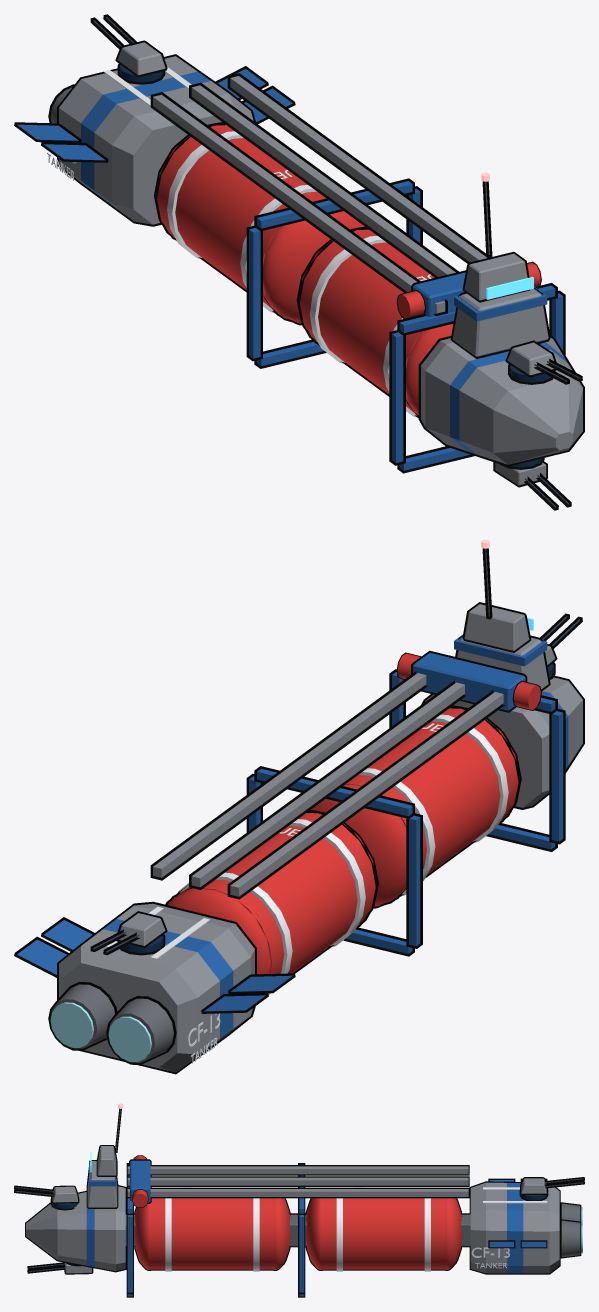
File: Cargo_Frigate_Tanker.fbx
3 views of the same model, one above another, from view 1: azimuth 30°, elevation 25°; view 2: azimuth 150°, elevation 25°; view 3: azimuth 270°, elevation 25° (orthographic). The views are drawn at different scales.
Parts seen in each view (by area): view 1: Bow.002, Engine.002, Tank10, Tank00, Pipe-2.95, Pipe0, Pipe2.95, TankFrame1, TankFrame0, Bridge_A.002, Tank10_Cap-1, Bridge_B.002 (+12 smaller); view 2: Engine.002, Tank10, Tank00, Pipe-2.95, Pipe2.95, Pipe0, Bow.002, TankFrame1, TankFrame0, Tank00_Cap1, Manifold, Tank10_Cap1 (+17 smaller); view 3: Tank00, Tank10, Engine.002, Bow.002, Pipe2.95, Pipe-2.95, Pipe0, Tank10_Cap1, Tank00_Cap1, Tank10_Cap-1, Bridge_A.002, Tank00_Cap-1 (+14 smaller).
Part boxes in pixels (box(x1,y1,x2,y2)): Bow.002: box(418, 334, 584, 466); Engine.002: box(57, 54, 255, 226); Tank10: box(155, 123, 326, 323); Tank00: box(298, 227, 434, 417); Pipe-2.95: box(150, 92, 447, 316); Pipe0: box(189, 82, 458, 277); Pipe2.95: box(227, 73, 488, 263); TankFrame1: box(246, 178, 422, 368); TankFrame0: box(389, 283, 565, 473); Bridge_A.002: box(450, 287, 550, 358); Tank10_Cap-1: box(263, 211, 364, 325); Bridge_B.002: box(462, 251, 529, 302); Engine.002: box(57, 901, 256, 1074); Tank10: box(165, 811, 377, 973); Tank00: box(345, 706, 520, 906); Pipe-2.95: box(227, 690, 504, 899); Pipe2.95: box(150, 671, 427, 880); Pipe0: box(189, 680, 465, 889); Bow.002: box(421, 676, 584, 809); TankFrame1: box(246, 766, 422, 956); TankFrame0: box(389, 669, 565, 851); Tank00_Cap1: box(311, 784, 406, 908); Manifold: box(411, 650, 527, 712); Tank10_Cap1: box(166, 887, 271, 974); Tank00: box(150, 1198, 274, 1270); Tank10: box(322, 1198, 445, 1270); Engine.002: box(469, 1181, 560, 1274); Bow.002: box(25, 1185, 126, 1272); Pipe2.95: box(126, 1187, 469, 1198); Pipe-2.95: box(126, 1165, 469, 1175); Pipe0: box(126, 1176, 469, 1186); Tank10_Cap1: box(443, 1198, 462, 1270); Tank00_Cap1: box(271, 1198, 291, 1270); Tank10_Cap-1: box(305, 1198, 324, 1270); Bridge_A.002: box(86, 1160, 118, 1208); Tank00_Cap-1: box(134, 1203, 152, 1270).
Bounding box in the file's own units: 17.76 × 20.71 × 62.86.
